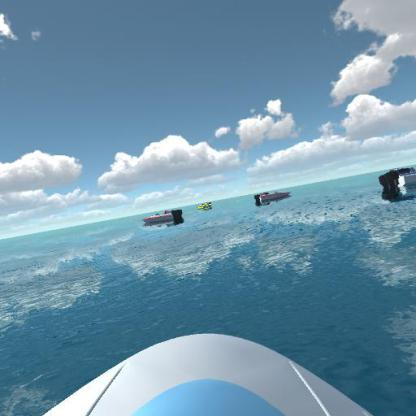usv1: (374, 161, 415, 197)
usv2: (197, 198, 218, 216)
usv3: (141, 204, 187, 228), (250, 184, 294, 208)
